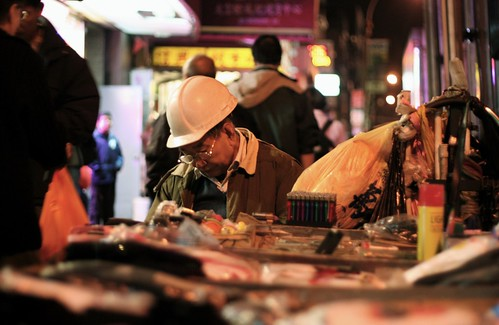person hardhat: (148, 75, 321, 227)
